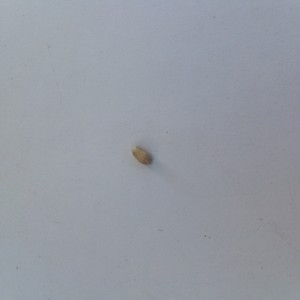trigo: (127, 142, 156, 168)
